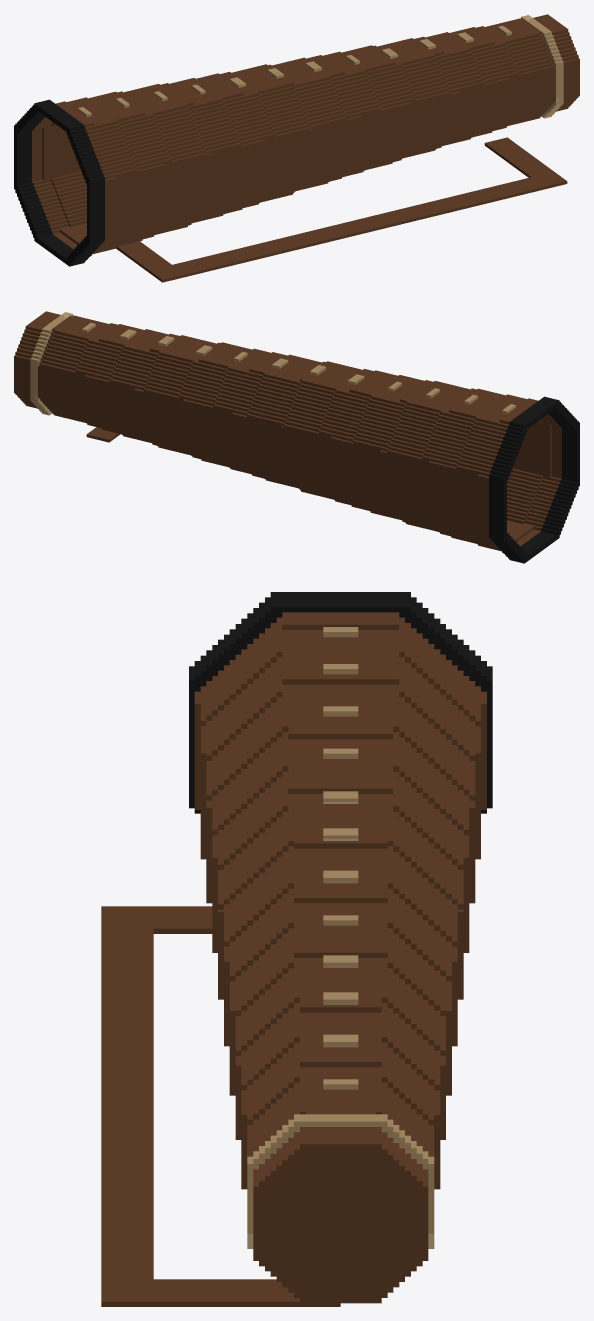
The model's file is javelin_bag.glb.
3 views of the same model, one above another, from view 1: azimuth 30°, elevation 25°; view 2: azimuth 150°, elevation 25°; view 3: azimuth 270°, elevation 25° (orthographic). The views are drawn at different scales.
Parts seen in each view (by area): view 1: javelin_bag:compound; view 2: javelin_bag:compound; view 3: javelin_bag:compound.
Boxes of the visible parts, bbox=[...] form: javelin_bag:compound: bbox=[14, 14, 579, 282]; javelin_bag:compound: bbox=[14, 311, 579, 563]; javelin_bag:compound: bbox=[101, 592, 492, 1306].
Size of the model in its own units: 0.8 by 0.208 by 0.268.
